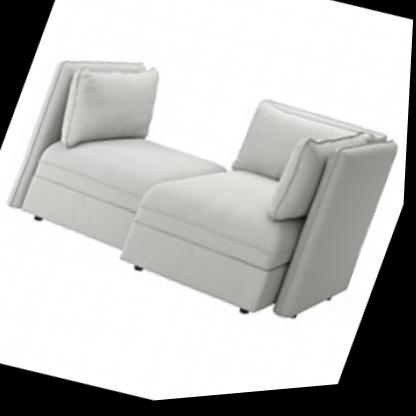Sofa: (0, 0, 415, 381)
